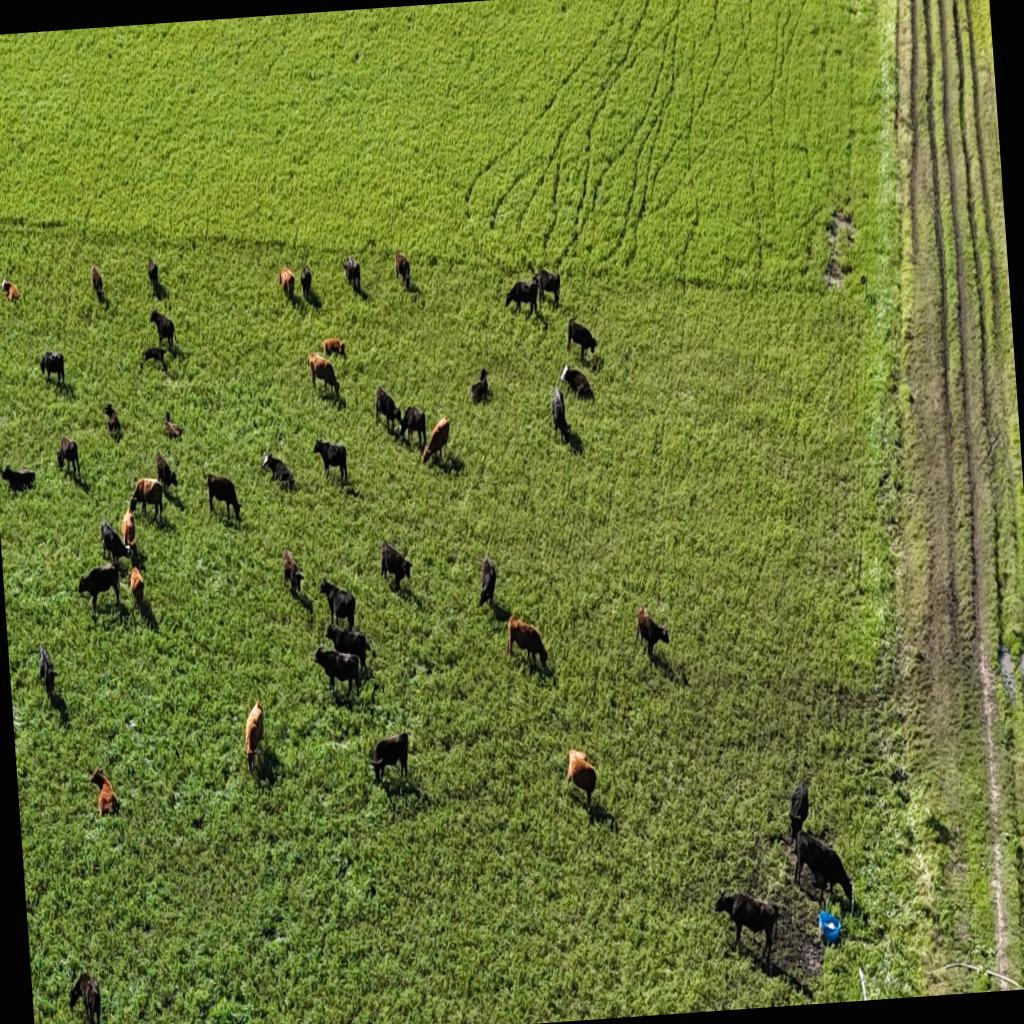cow: (790, 826, 856, 918), (714, 886, 783, 966), (314, 642, 364, 700), (75, 562, 124, 618), (506, 614, 550, 675), (634, 604, 672, 670), (327, 620, 371, 675), (369, 732, 412, 786), (318, 574, 358, 630), (565, 746, 600, 809), (378, 537, 414, 595), (204, 470, 242, 524), (242, 698, 268, 776), (67, 971, 104, 1024), (127, 476, 166, 526), (786, 780, 814, 848), (314, 436, 350, 487), (420, 414, 454, 468), (306, 352, 340, 403), (88, 765, 120, 818), (565, 316, 599, 364), (99, 516, 130, 568), (372, 384, 402, 437), (262, 452, 297, 496), (396, 403, 428, 451), (504, 278, 541, 317), (560, 364, 594, 404), (476, 554, 500, 610), (282, 546, 306, 601), (54, 435, 82, 482), (149, 308, 177, 354), (534, 266, 563, 310), (550, 384, 571, 444), (134, 582, 158, 633), (0, 462, 35, 494), (154, 450, 178, 496), (39, 350, 66, 388), (36, 642, 56, 692), (392, 248, 415, 290), (467, 367, 491, 406), (128, 563, 146, 610), (342, 256, 363, 296), (321, 336, 347, 367), (277, 266, 297, 304), (146, 254, 161, 297), (128, 534, 144, 571), (104, 404, 122, 436), (0, 276, 22, 302), (90, 264, 104, 304), (299, 263, 314, 300), (142, 346, 166, 368), (163, 414, 183, 440), (387, 400, 403, 430), (260, 449, 276, 477)
